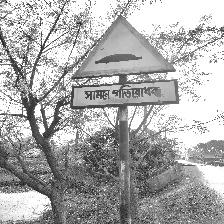Speed-breaker: (71, 15, 178, 109)
